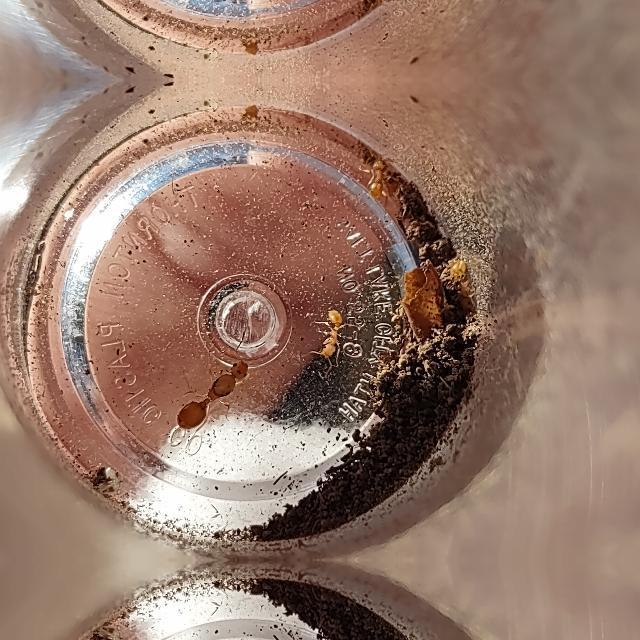Temnothorax: (168, 341, 252, 433), (312, 305, 356, 371), (358, 150, 390, 210)
